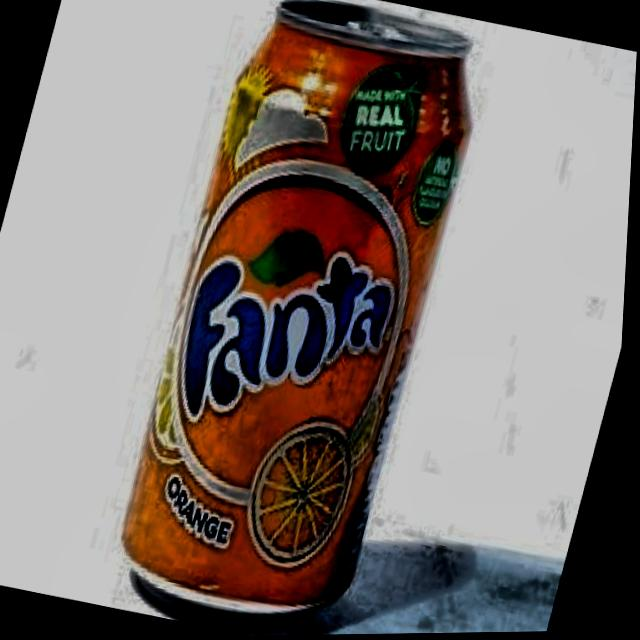Cans: (83, 0, 508, 639)
